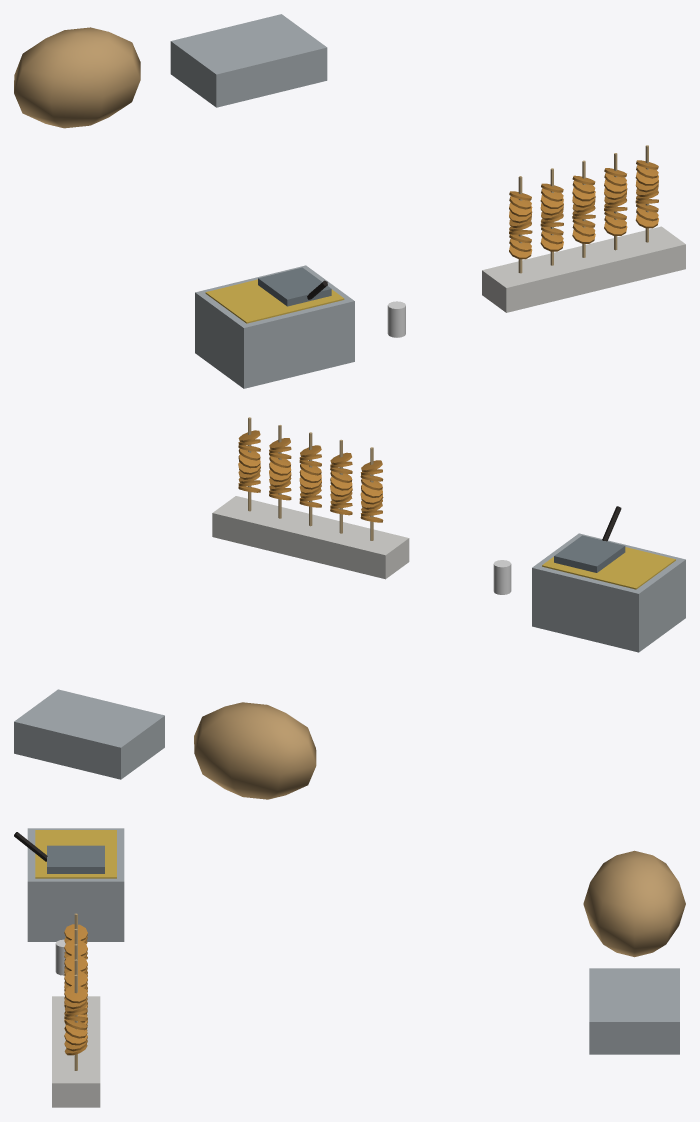
Rendered from goods_tornado.glb.
3 renders of one model, top to bottom at view 1: azimuth 30°, elevation 25°; view 2: azimuth 150°, elevation 25°; view 3: azimuth 270°, elevation 25°, orthographic. The views are drawn at different scales.
Parts seen in each view (by area): view 1: goods_tornado; view 2: goods_tornado; view 3: goods_tornado.
Part boxes in pixels (x1,y1,x2,y2): goods_tornado: [14, 14, 685, 388]; goods_tornado: [14, 417, 685, 799]; goods_tornado: [14, 828, 685, 1107].
Size of the model in its own units: 1.72 by 0.4392 by 2.23.
